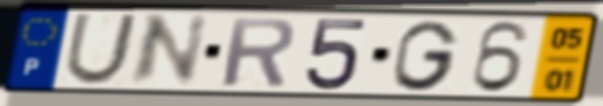5: (300, 15, 371, 92)
6: (468, 18, 531, 95)
G: (390, 18, 463, 93)
N: (124, 12, 213, 89)
R: (219, 15, 298, 89)
U: (61, 12, 142, 87)
